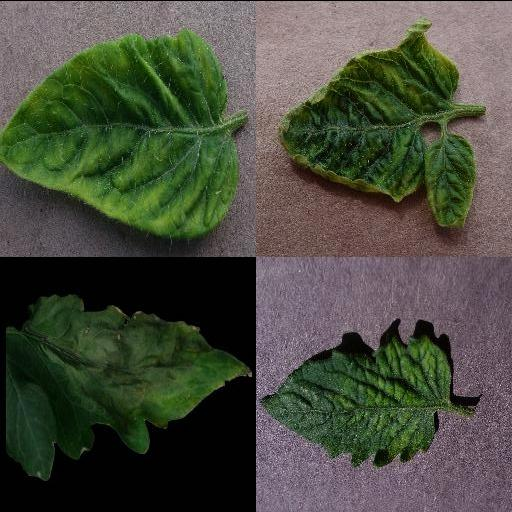Late Blight: (5, 291, 253, 479)
Mosaic Virus: (257, 332, 453, 470)
Yellow Leaf Curl Virus: (0, 30, 238, 241), (279, 19, 459, 200), (423, 135, 475, 229)
